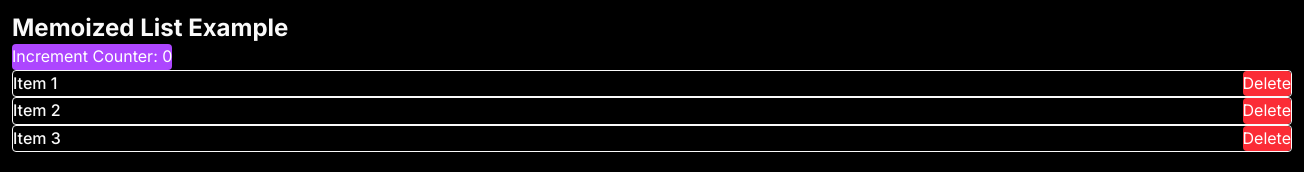
Memoized List Components › MemoizedListExample › deletes item when delete button is clicked
Click the button "Delete" in the row of "Item 1" at point(1267, 83), box [1242,71,1291,96]
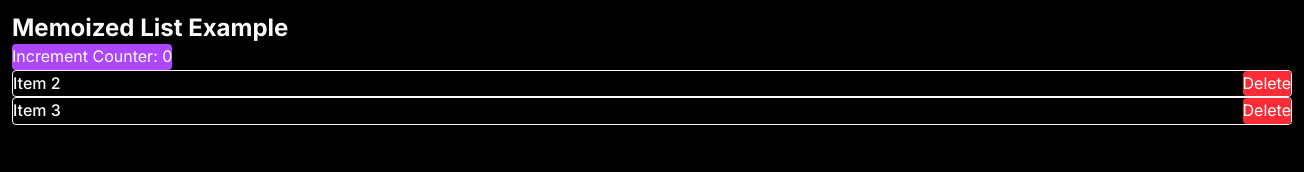
Expected: the text "Item 2" is shown, [13,71,61,96]
Now the text "Item 1" is gone
